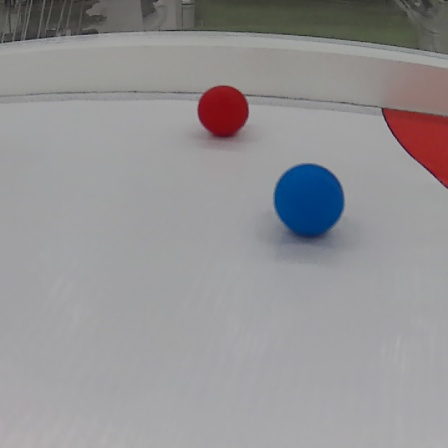blue: (270, 158, 347, 243)
red: (196, 85, 248, 137)
red_base: (379, 93, 448, 203)
